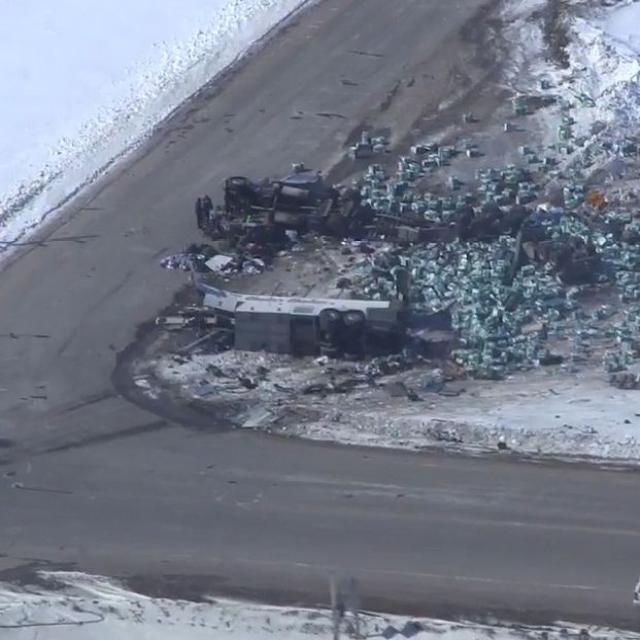traffic_incident: (161, 165, 536, 251), (160, 271, 447, 376)
